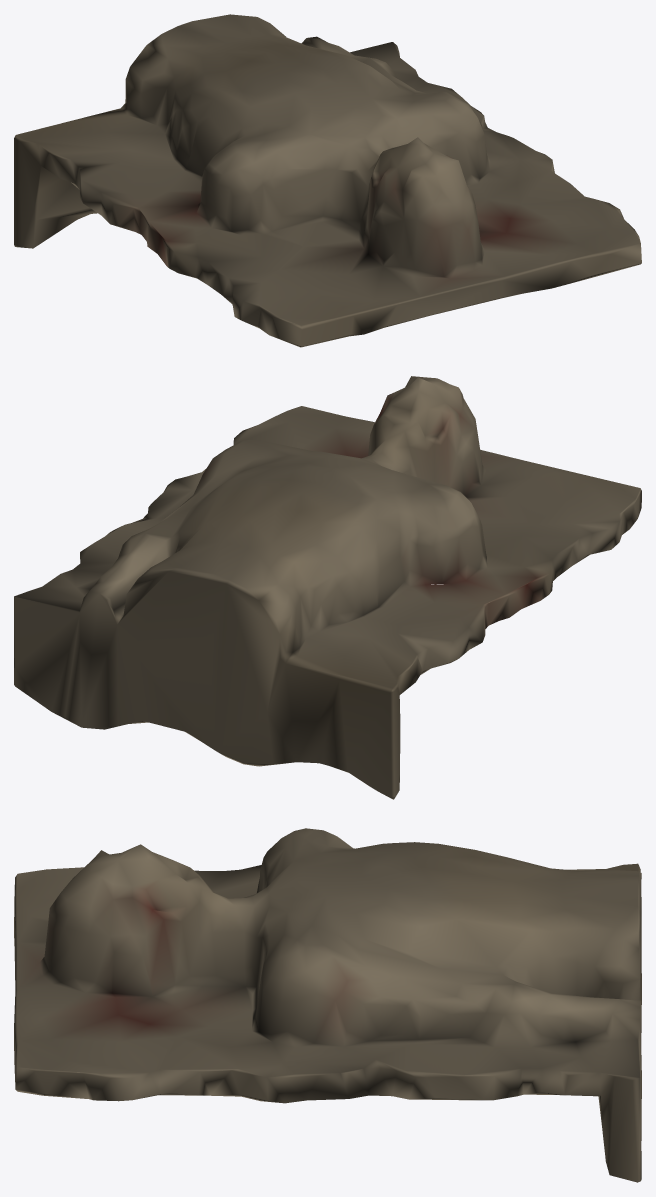
Rendered from dead_cover.glb.
3 views of the same model, one above another, from view 1: azimuth 30°, elevation 25°; view 2: azimuth 150°, elevation 25°; view 3: azimuth 270°, elevation 25° (orthographic). The views are drawn at different scales.
Visible parts, largest first — view 1: dead_cover; view 2: dead_cover; view 3: dead_cover.
Part boxes in pixels (x1=…): dead_cover: x1=14, y1=14, x2=641, y2=347; dead_cover: x1=14, y1=376, x2=641, y2=799; dead_cover: x1=14, y1=828, x2=641, y2=1182.
Size of the model in its own units: 0.7187 by 0.4007 by 0.8812.
